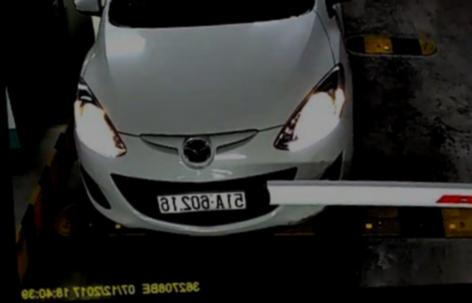License_Plate: (151, 187, 249, 220)
